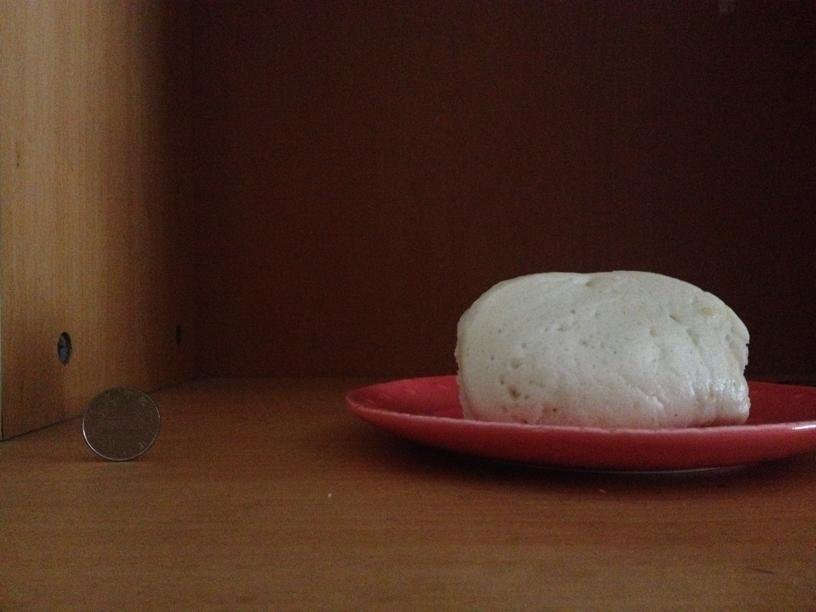bun: (454, 270, 752, 427)
coin: (80, 383, 161, 460)
